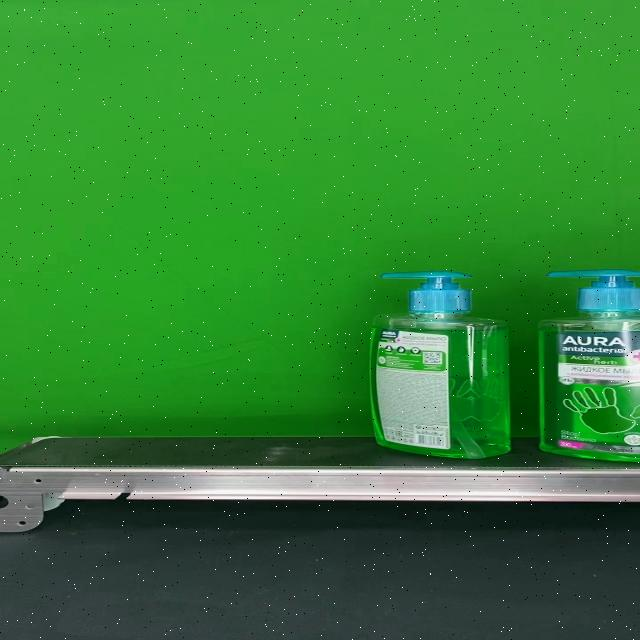Bottle: (367, 270, 511, 460)
Cap: (380, 271, 472, 313)
